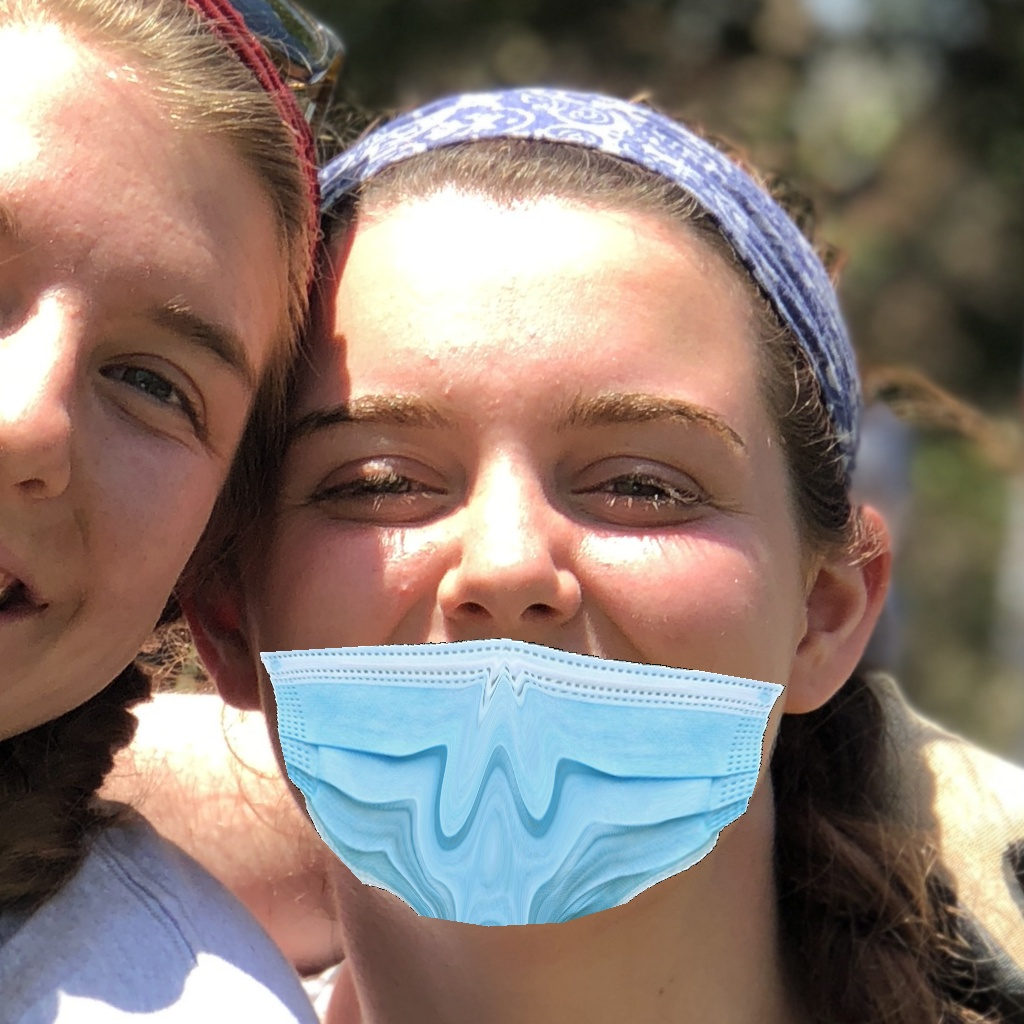mask_weared_incorrect: (253, 402, 775, 926)
